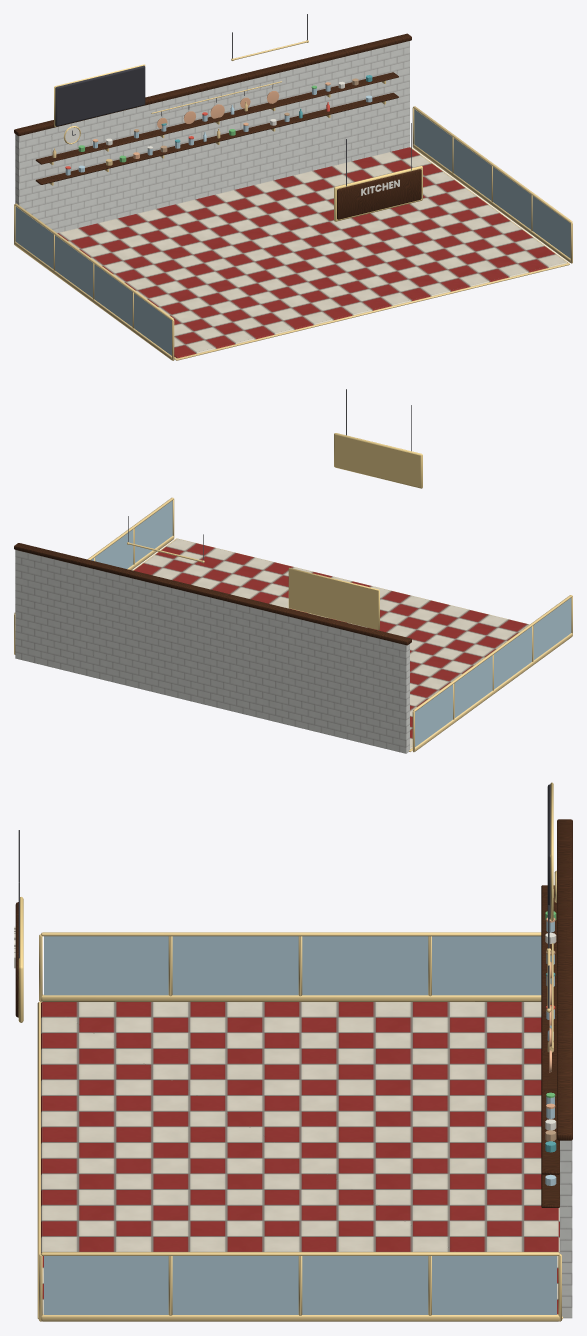
Rendered from kr_layB_shell.glb.
3 renders of one model, top to bottom at view 1: azimuth 30°, elevation 25°; view 2: azimuth 150°, elevation 25°; view 3: azimuth 270°, elevation 25°, orthographic. The views are drawn at different scales.
Parts seen in each view (by area): view 1: kr_layB_shell_checker2, kr_layB_shell_subway, vc_m0_r2, kr_layB_shell_darkwood, vc_m8_r2, vc_m0_r4, vc_m8_r4; view 2: kr_layB_shell_subway, kr_layB_shell_checker2, vc_m8_r2, vc_m0_r2, kr_layB_shell_darkwood; view 3: kr_layB_shell_checker2, vc_m0_r2, vc_m8_r2, kr_layB_shell_darkwood, kr_layB_shell_subway, vc_m0_r4, vc_m8_r4.
Boxes of the visible parts, box(x1,y1,x2,y2) form: kr_layB_shell_checker2: box(57, 147, 567, 358); kr_layB_shell_subway: box(15, 41, 409, 232); vc_m0_r2: box(15, 85, 570, 355); kr_layB_shell_darkwood: box(14, 33, 421, 219); vc_m8_r2: box(14, 40, 572, 360); vc_m0_r4: box(52, 65, 399, 195); vc_m8_r4: box(92, 14, 411, 186); kr_layB_shell_subway: box(15, 550, 409, 753); kr_layB_shell_checker2: box(134, 538, 529, 749); vc_m8_r2: box(14, 433, 572, 752); vc_m0_r2: box(91, 500, 571, 746); kr_layB_shell_darkwood: box(14, 543, 411, 645); kr_layB_shell_checker2: box(41, 1002, 559, 1314); vc_m0_r2: box(44, 921, 556, 1314); vc_m8_r2: box(18, 782, 562, 1321); kr_layB_shell_darkwood: box(15, 819, 572, 1207); kr_layB_shell_subway: box(560, 1140, 572, 1318); vc_m0_r4: box(14, 784, 556, 1152); vc_m8_r4: box(18, 830, 555, 1108).
Bounding box in the file's own units: 12.32 × 5.46 × 9.05.
8 materials, 3 textured.
